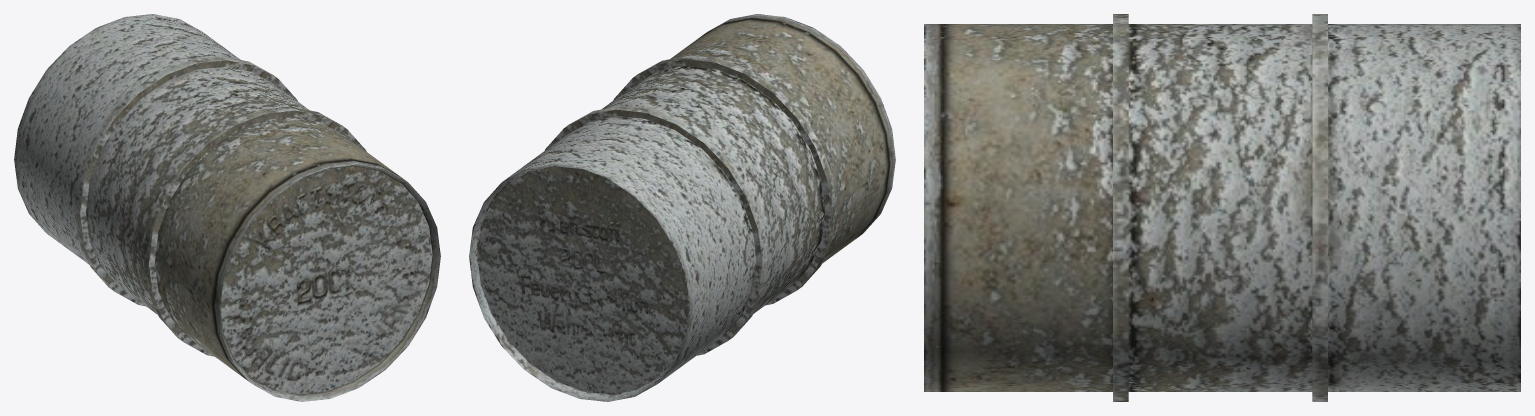
The model's file is prop_barrel_silver_snow.glb.
3 views of the same model, side by side, from view 1: azimuth 30°, elevation 25°; view 2: azimuth 150°, elevation 25°; view 3: azimuth 270°, elevation 25° (orthographic). The views are drawn at different scales.
Size of the model in its own units: 28.93 by 28.93 by 44.32.
Materials: 1 (1 with a texture image).
